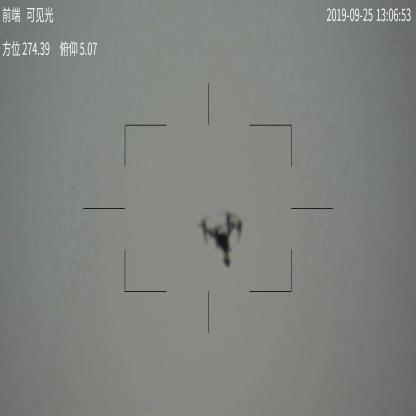uav: (198, 211, 245, 266)
